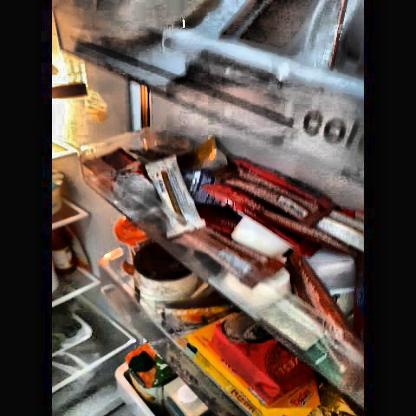butter: (186, 333, 317, 415)
milk: (163, 377, 207, 415)
salami: (86, 0, 214, 37)
